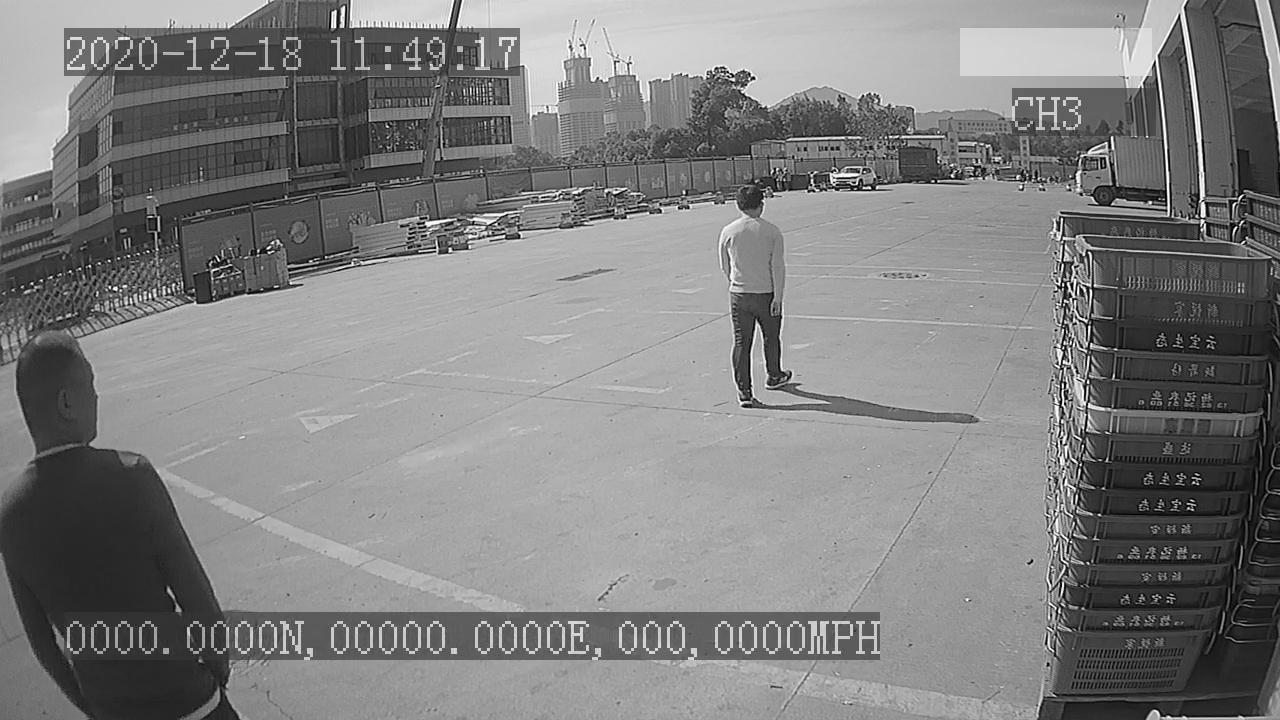person: (715, 183, 795, 411)
